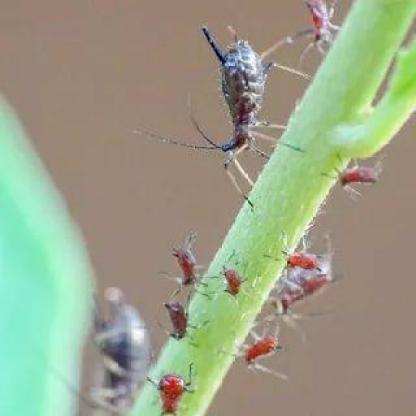aphid: (159, 21, 296, 184), (79, 284, 158, 415), (232, 320, 287, 378), (269, 261, 327, 313), (320, 162, 398, 200), (292, 2, 347, 52), (146, 368, 197, 416), (208, 250, 262, 295), (166, 236, 209, 290), (160, 290, 198, 347), (276, 240, 327, 278)
